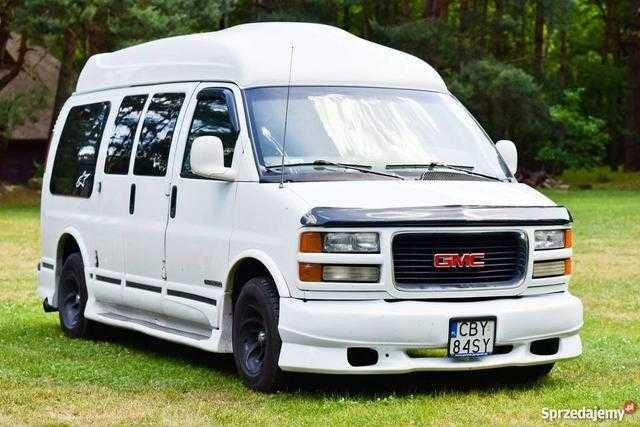car: (36, 17, 581, 391)
